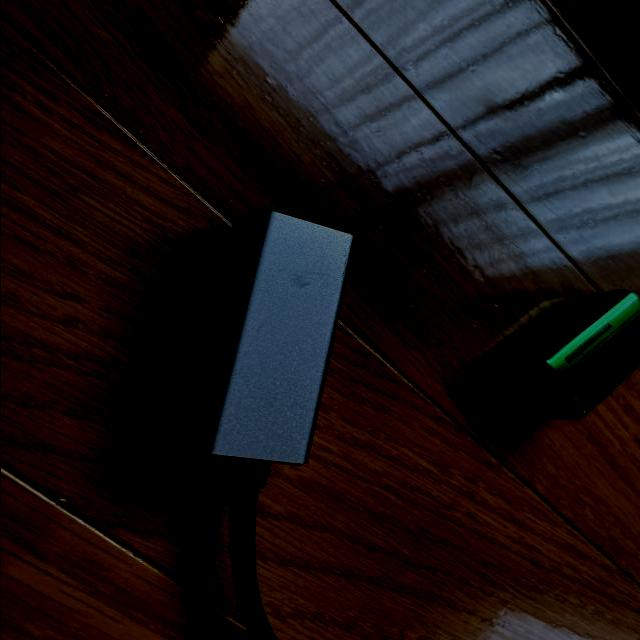9V: (502, 289, 638, 420)
